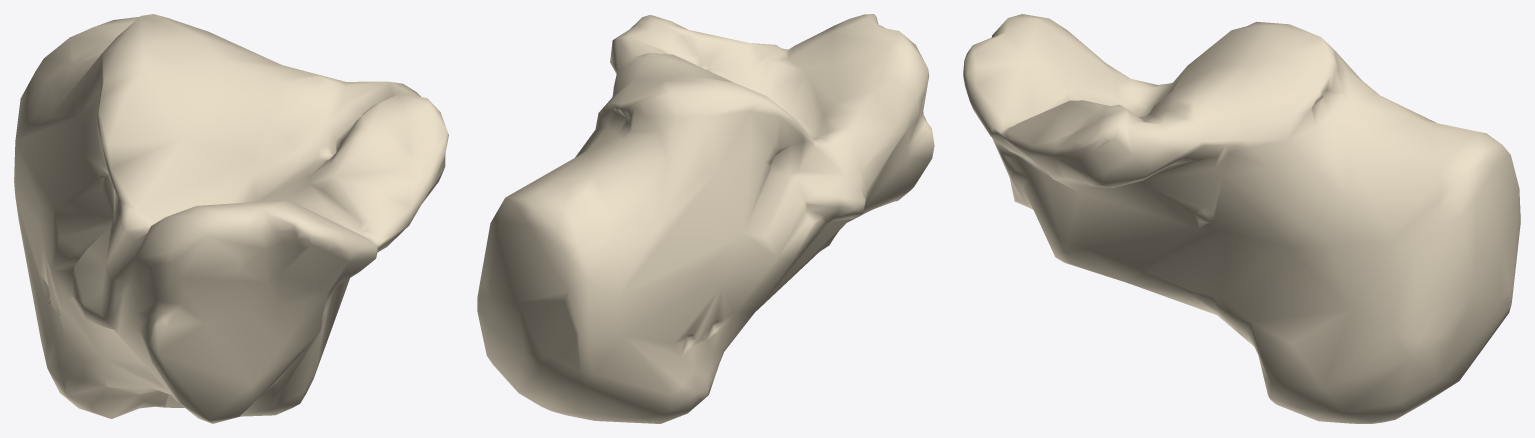
The model's file is calcaneus-r.glb.
The picture shows the model from 3 angles, left to right: view 1: azimuth 30°, elevation 25°; view 2: azimuth 150°, elevation 25°; view 3: azimuth 270°, elevation 25°; orthographic projection. The views are drawn at different scales.
Visible parts, largest first — view 1: Calcaneus.r; view 2: Calcaneus.r; view 3: Calcaneus.r.
Boxes of the visible parts, box(x1,y1,x2,y2) form: Calcaneus.r: box(14, 14, 448, 423); Calcaneus.r: box(477, 14, 934, 423); Calcaneus.r: box(963, 14, 1520, 423).
Size of the model in its own units: 0.0475 by 0.0511 by 0.0757.
